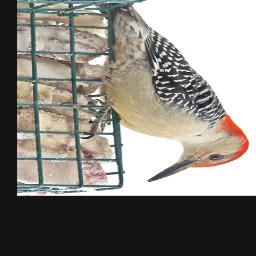Woodpecker: (78, 0, 249, 185)
